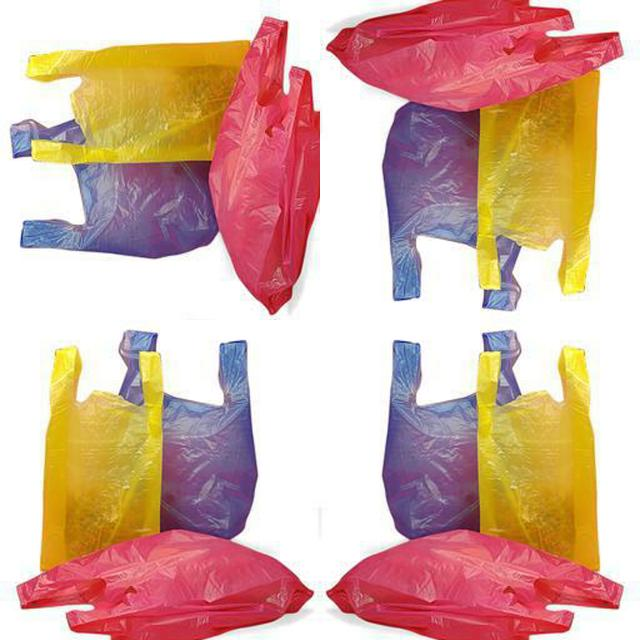Single-layer Plastic: (209, 18, 320, 314), (328, 0, 622, 111), (18, 530, 312, 640), (328, 530, 621, 640), (476, 346, 600, 570), (40, 346, 164, 569), (26, 41, 250, 164), (478, 71, 599, 294), (382, 102, 480, 300), (382, 341, 480, 539), (160, 341, 258, 539), (21, 161, 218, 258), (119, 330, 158, 405), (482, 331, 521, 405)
